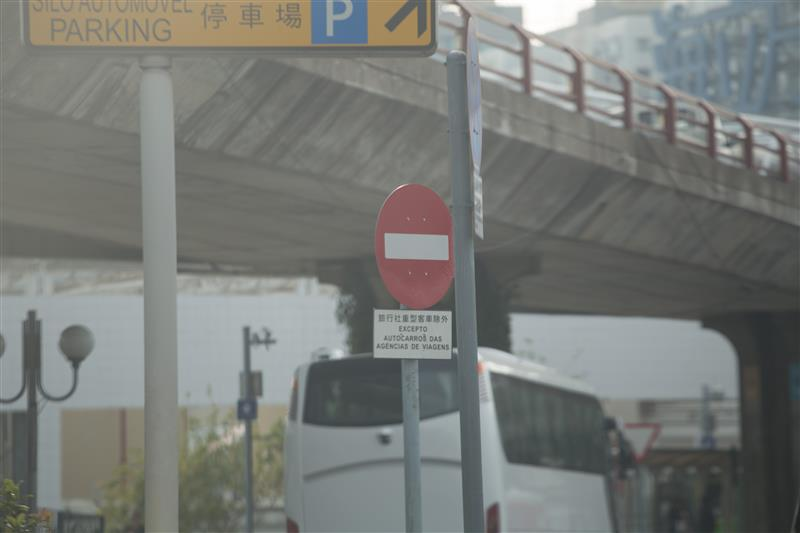noEntry: (373, 183, 454, 306)
